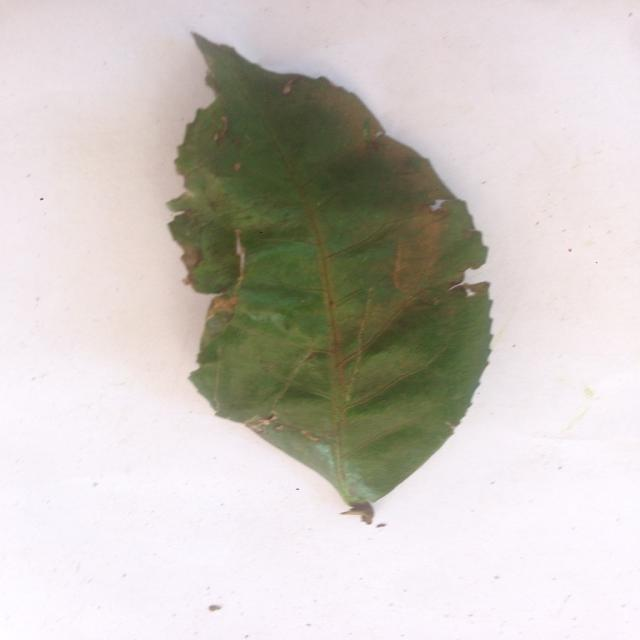Brown Blight: (166, 27, 512, 531)
